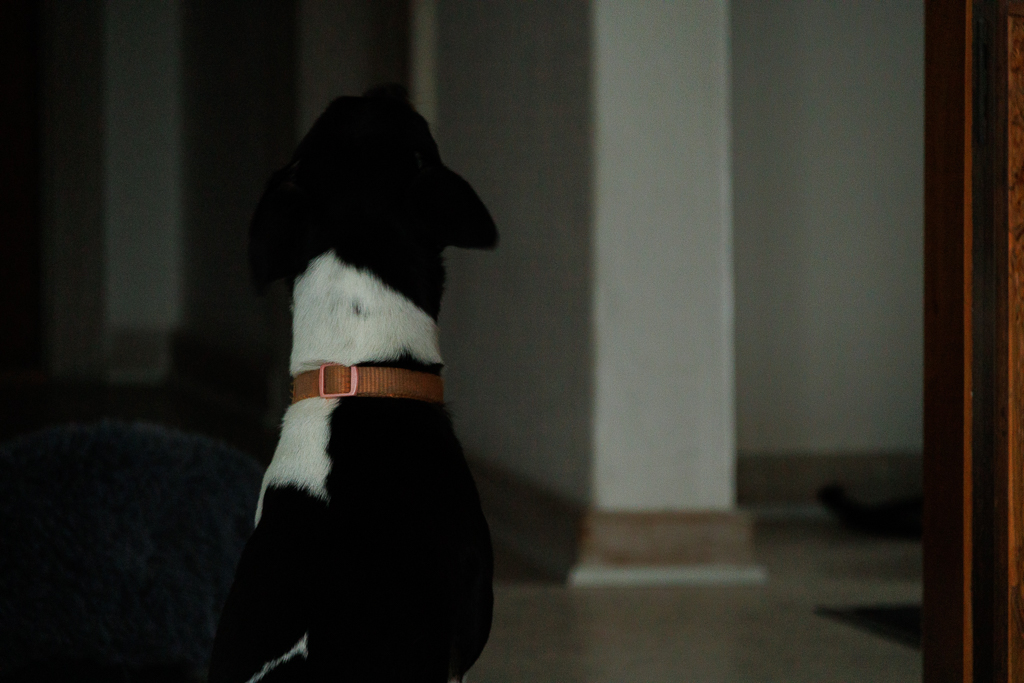Dog: (173, 65, 510, 683)
